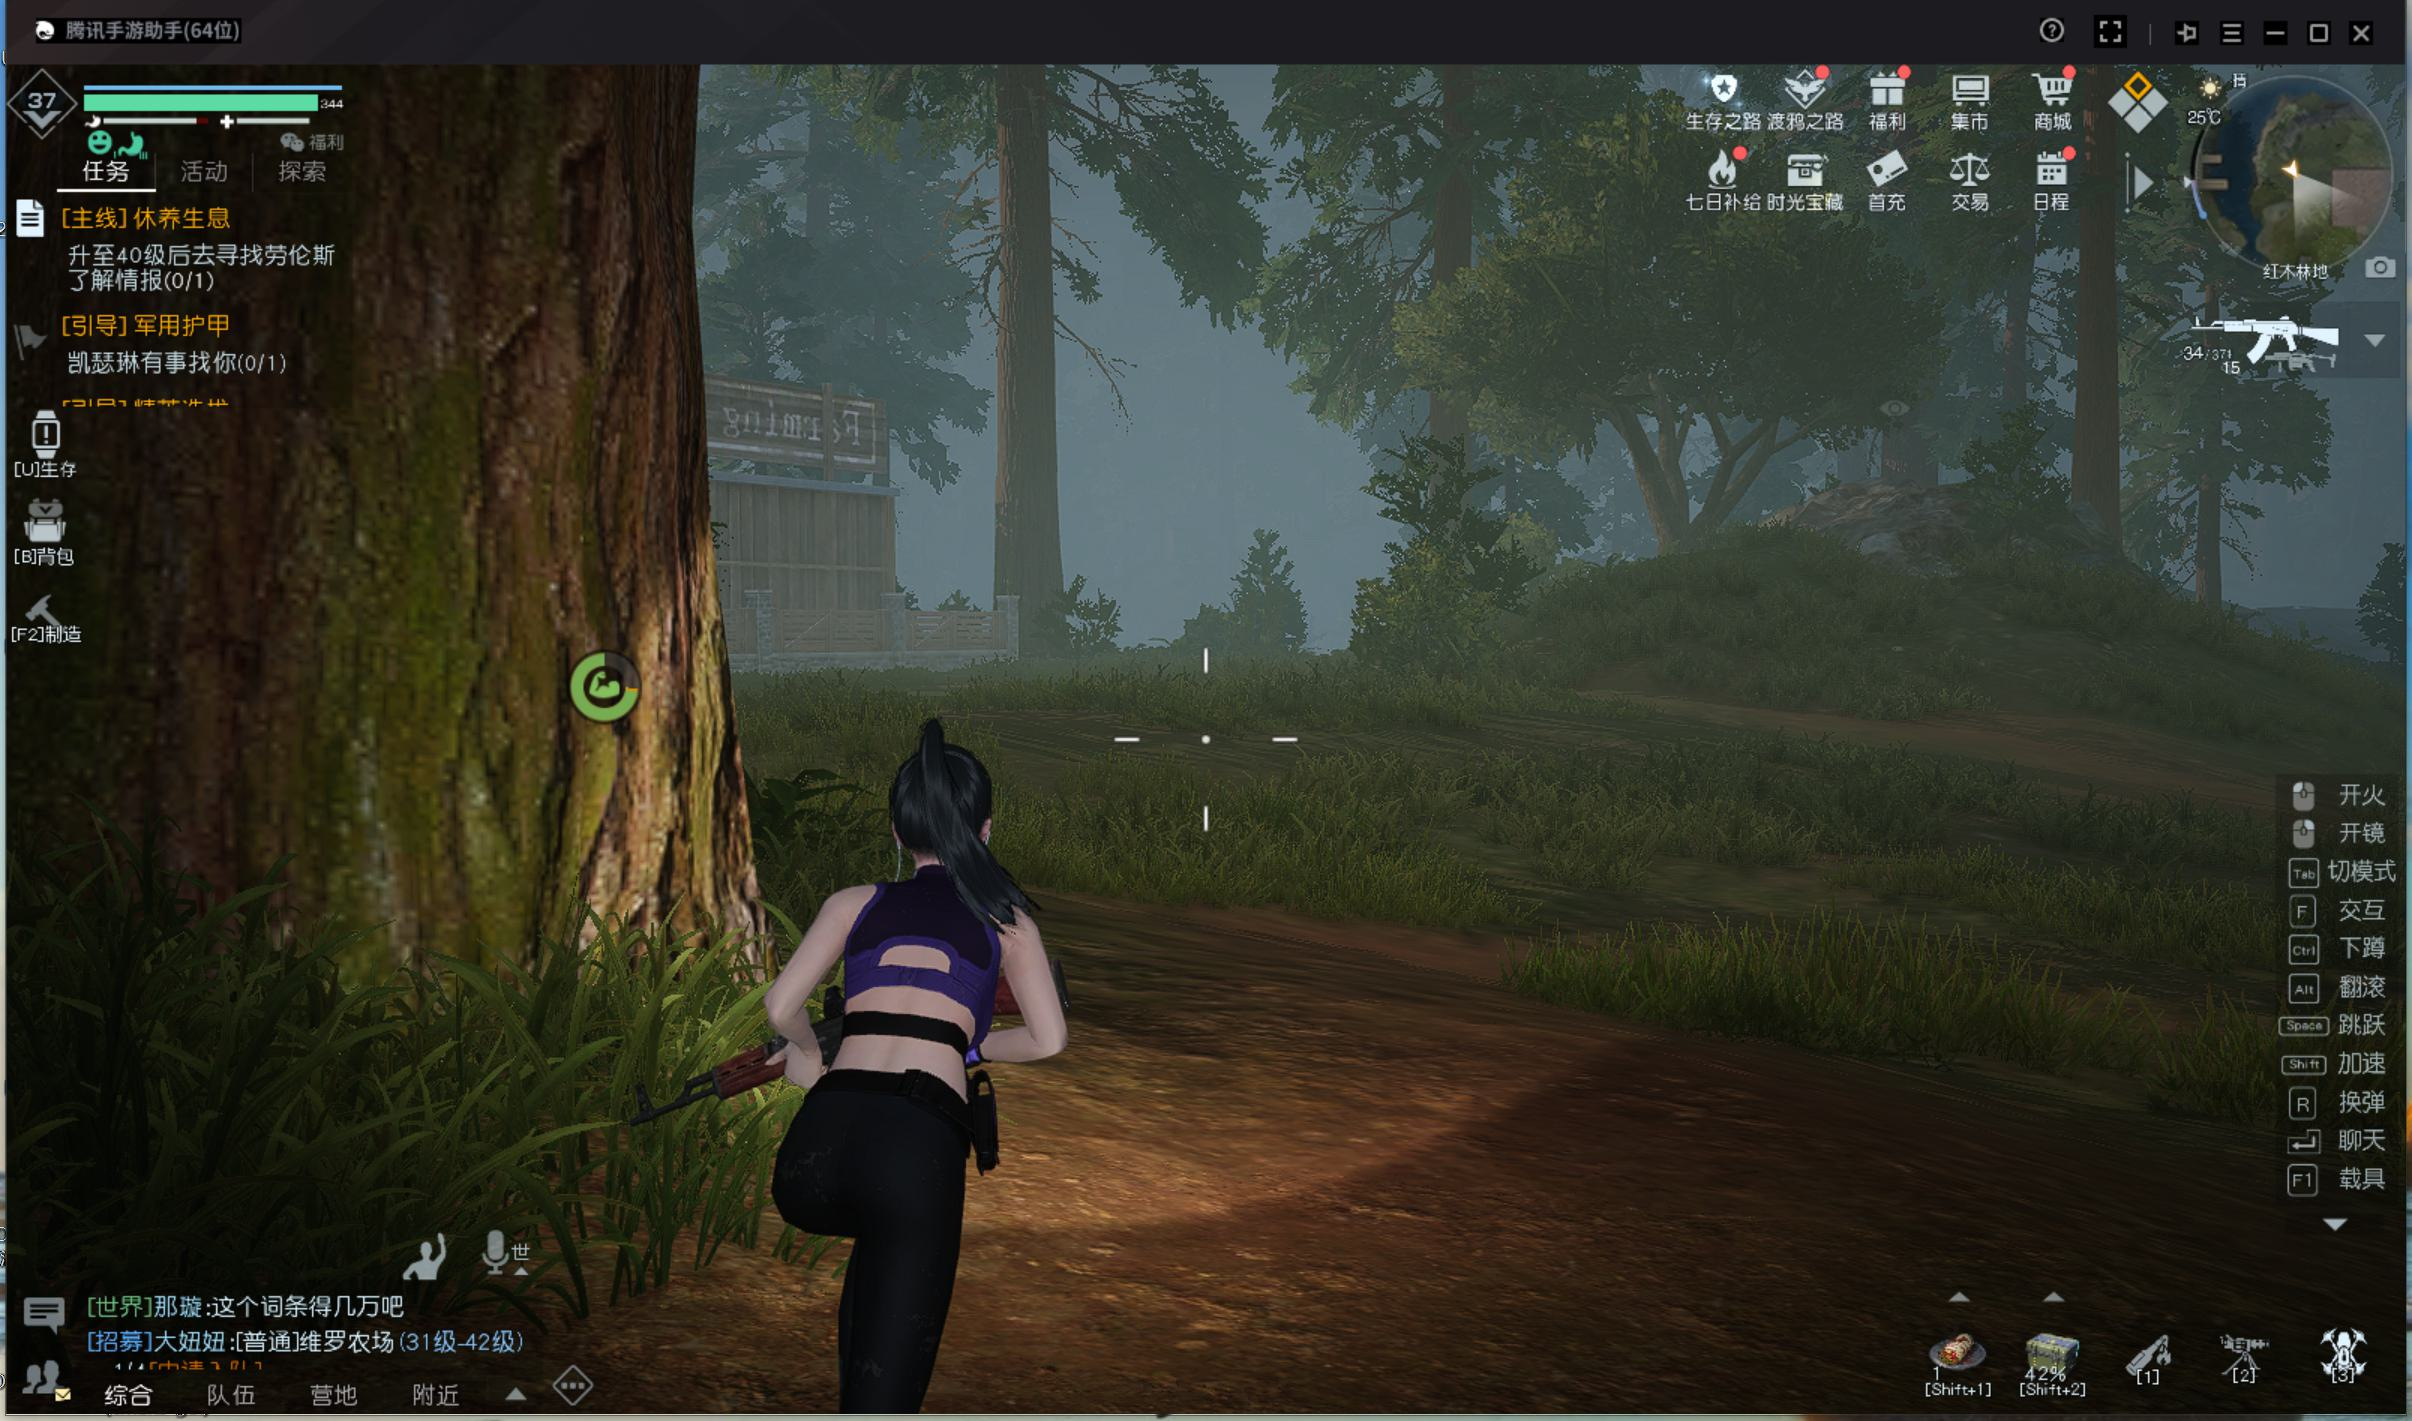tree: (974, 130, 1071, 695), (1407, 174, 1470, 648), (2070, 217, 2128, 602), (2184, 301, 2229, 636)
